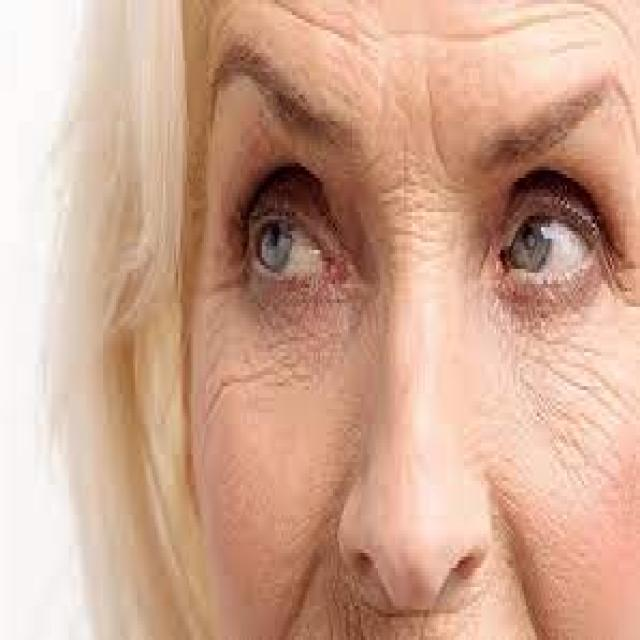Wrinkles: (502, 324, 633, 518), (286, 0, 636, 58), (194, 258, 290, 414)
